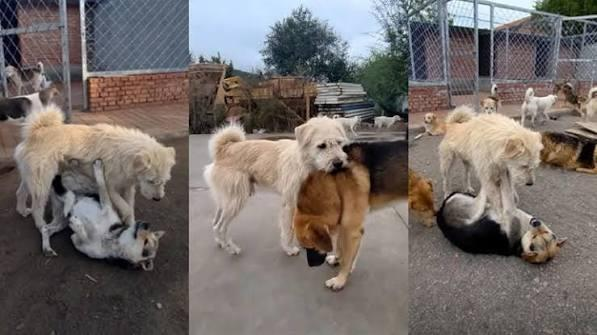adult_dog: (14, 104, 177, 238), (204, 115, 354, 258), (291, 140, 408, 292), (438, 104, 545, 245), (35, 157, 166, 271), (434, 191, 569, 265), (0, 81, 67, 217), (408, 169, 439, 228), (520, 86, 559, 132), (549, 76, 579, 113), (17, 61, 48, 95), (576, 85, 597, 122), (490, 82, 520, 103), (3, 65, 23, 94)
puppy-dog: (423, 111, 440, 136), (480, 96, 499, 116)
